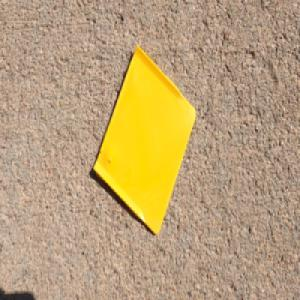PlasticPart: (92, 41, 198, 238)
